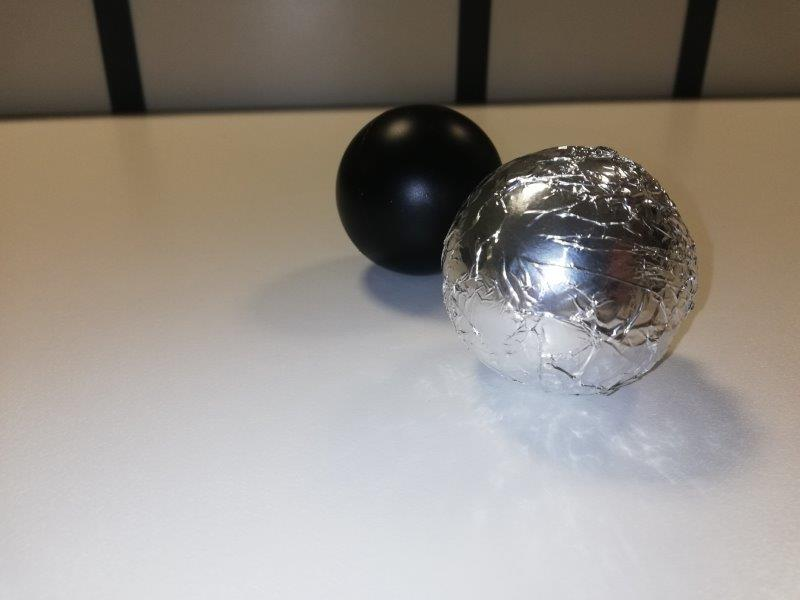bianca: (437, 145, 698, 392)
nera: (333, 102, 508, 276)
